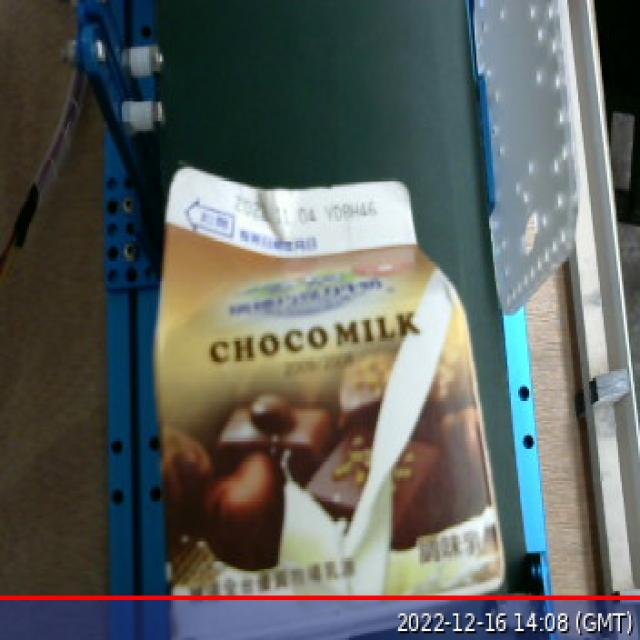non_white_jug: (136, 161, 520, 640)
